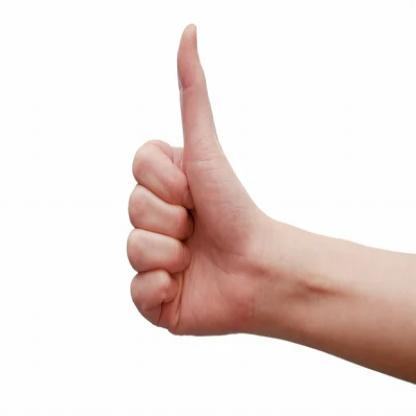thumb_up: (121, 20, 254, 340)
